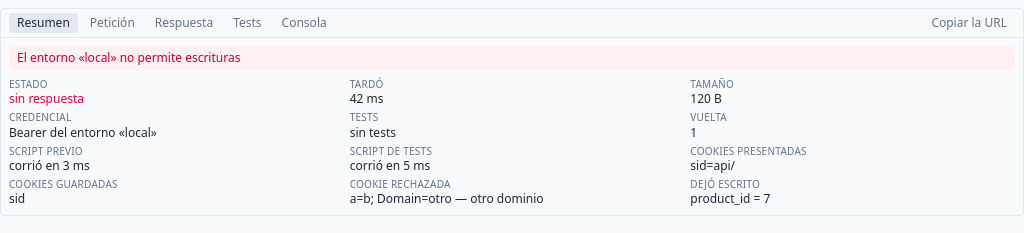
Test: una petición de la corrida, abierta › sin petición y sin respuesta, cada pestaña dice qué pasó
expect the text "El entorno «local» no permite escrituras" is shown once: met, box [9,46,1015,70]
Click the button "Petición": (112, 23) [82,13,143,33]
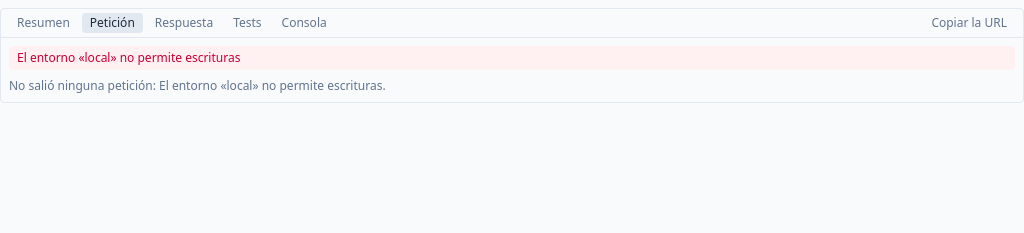
expect the text "No salió ninguna petición" is shown: met, box [9,77,159,94]
Click the button "Respuesta": (184, 23) [147,13,221,33]
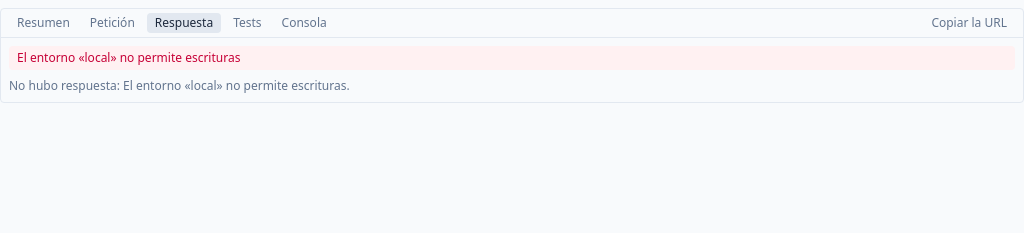
expect the text "No hubo respuesta: El entorno «local» no permite escrituras." is shown: met, box [9,77,350,94]
Click the button "Tests": (247, 23) [225,13,270,33]
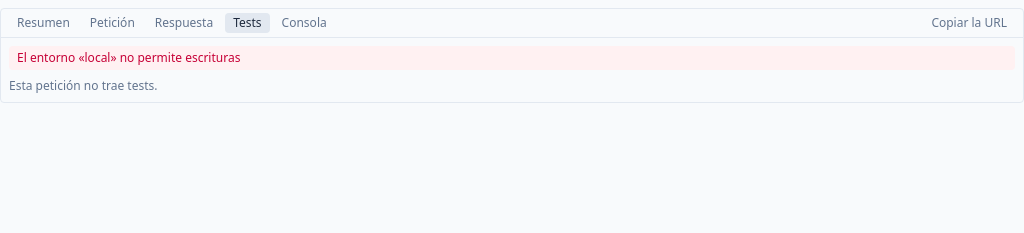
expect the list item "Esta petición no trae tests." is shown: met, box [9,77,158,94]
Click the button "Consola": (304, 23) [274,13,335,33]
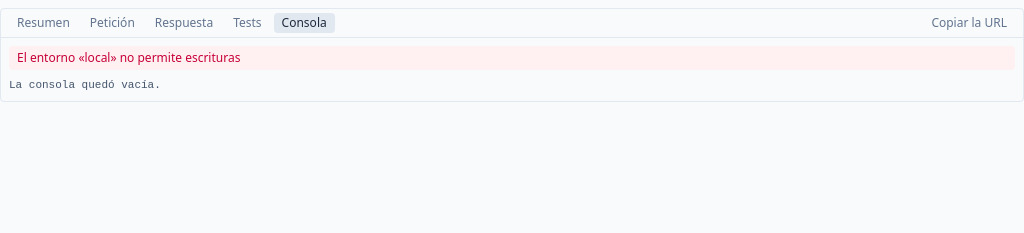
expect the text "La consola quedó vacía." is shown: met, box [9,79,161,91]
